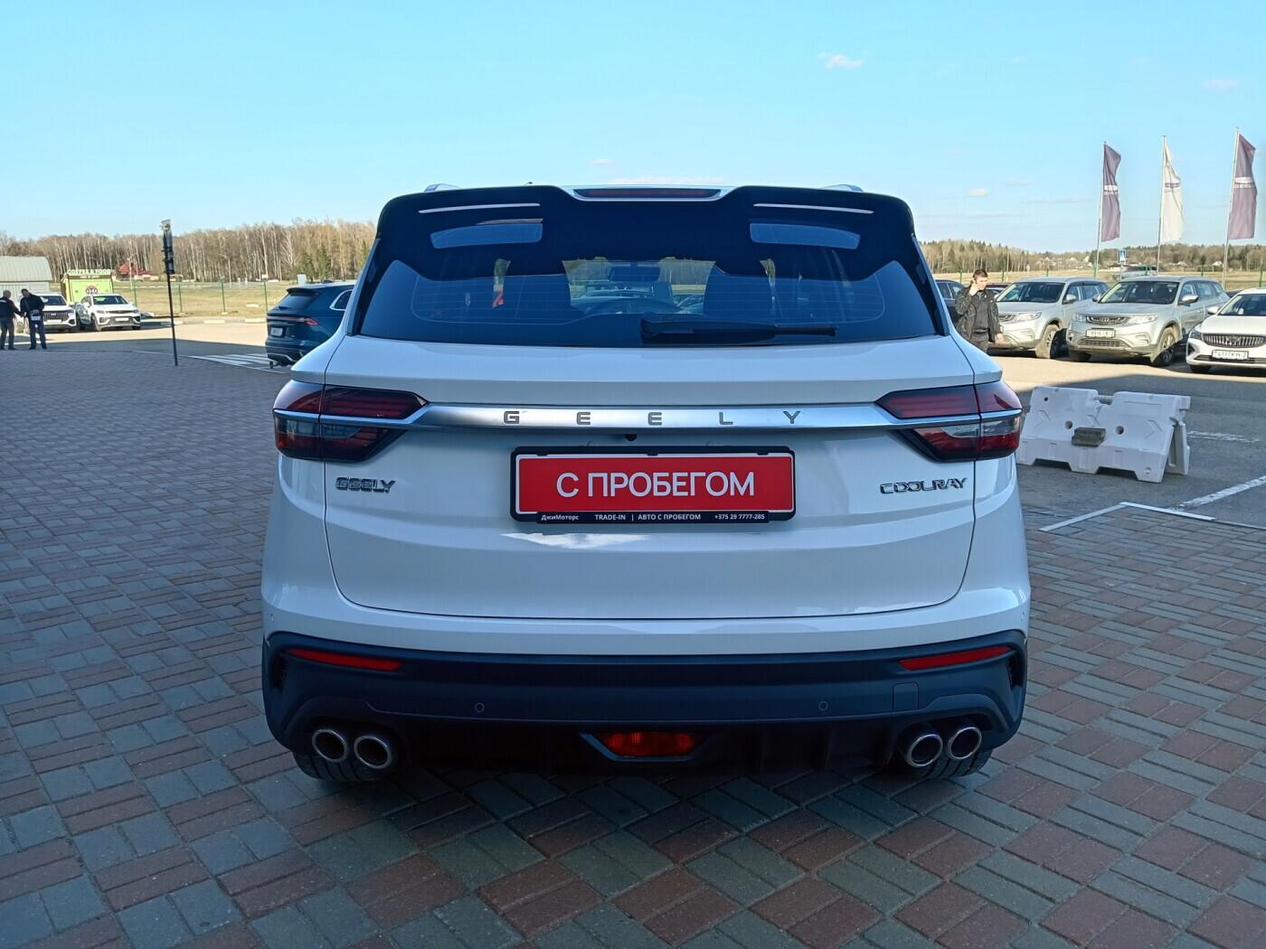Coolray_2019-2023: (252, 179, 1035, 799)
